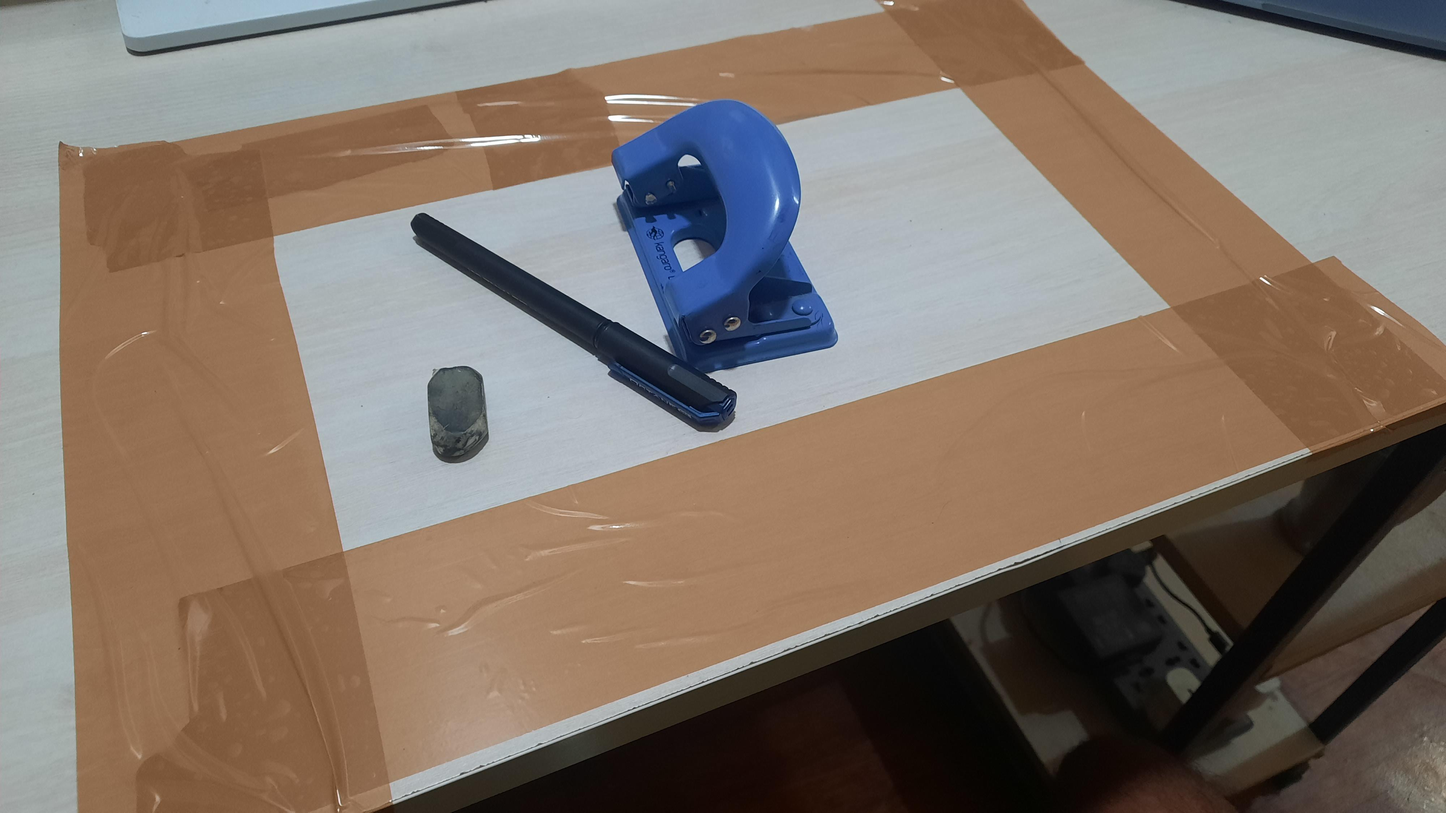Eraser: (428, 366, 489, 464)
Pen: (410, 212, 736, 429)
Punch: (612, 99, 839, 372)
